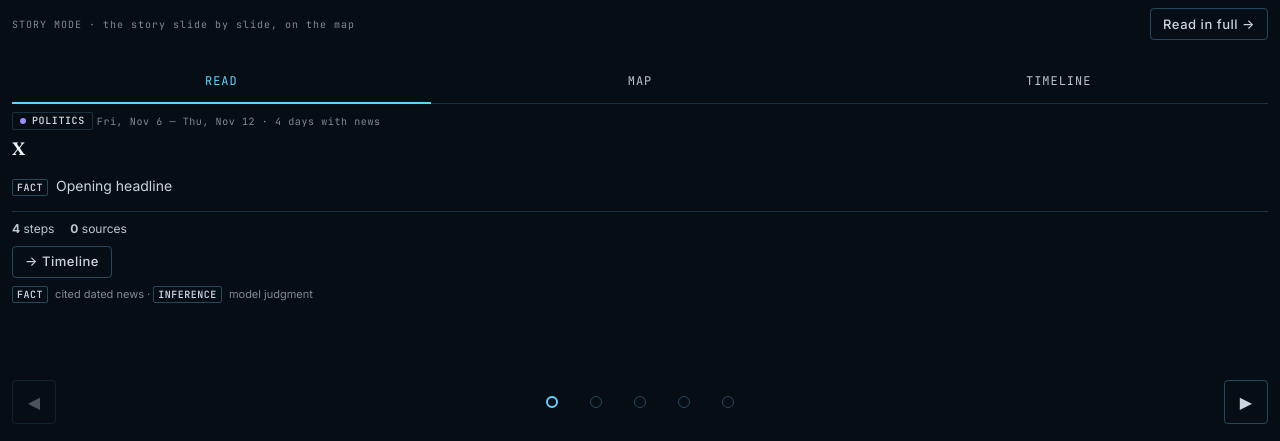
Test: chapter slide (desktop and phone) › the phone deck shows the labels on its chapter slides
Click the button named "Next slide": x=1246, y=402 [1224,380,1268,424]
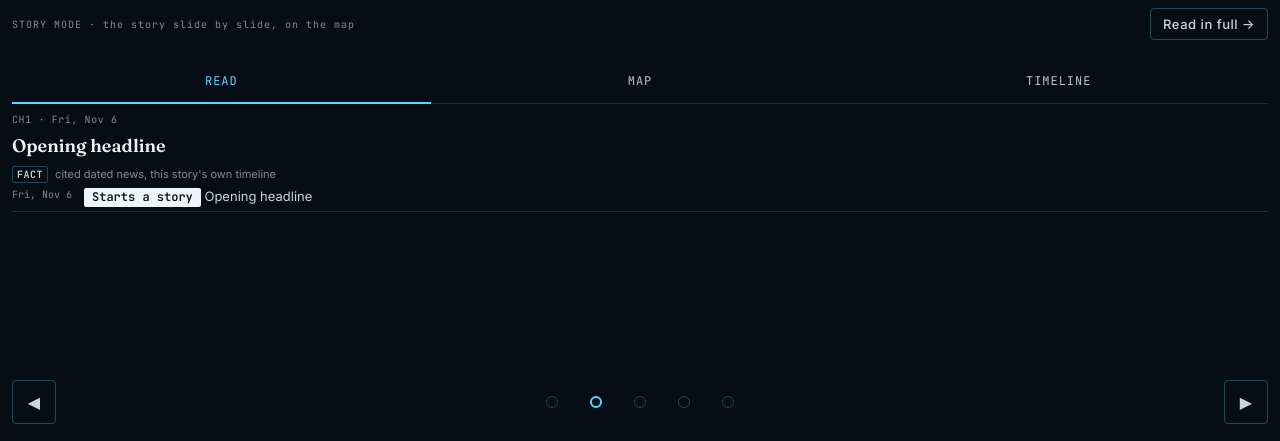
Expected: the text "Starts a story" is shown, [84,188,201,207]
